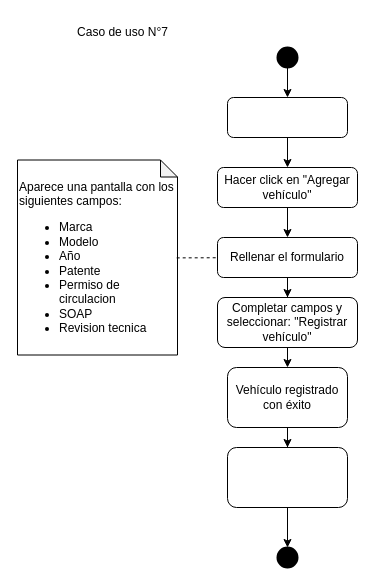
This 375x585 diagram has some shape labels left out. The centre of each missing label's shape, as x and y in pixels:
"El sistema navega a ReadyuseScreen" belongs at point (287, 477).
"Iniciar sesión" belongs at point (287, 117).
